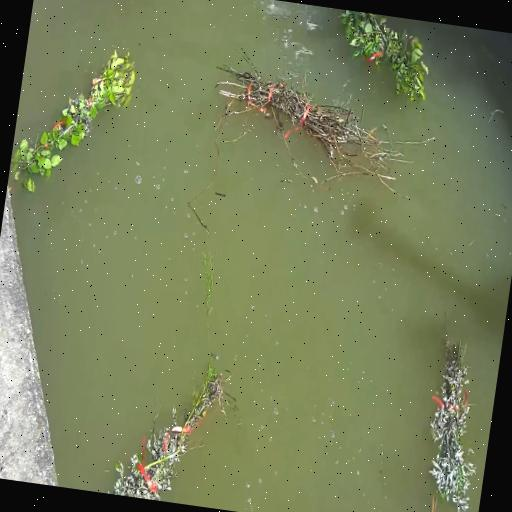twig: (216, 63, 428, 190), (13, 51, 135, 180), (114, 366, 224, 500), (342, 10, 429, 102), (430, 340, 476, 512), (430, 496, 436, 512)
